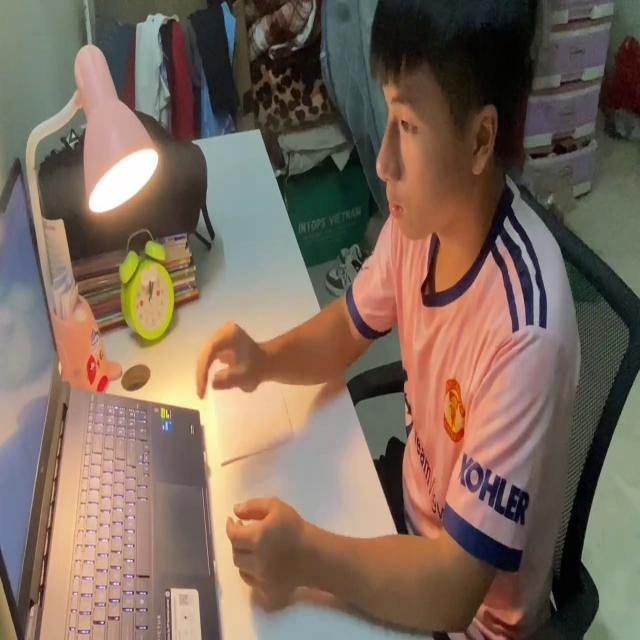book: (215, 349, 298, 550)
laptop: (1, 148, 221, 640)
student: (195, 2, 577, 640)
